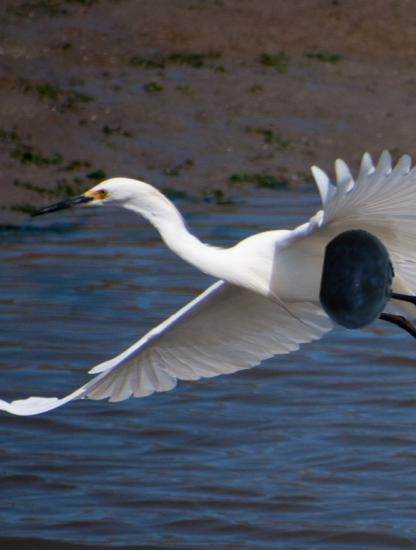Blueberry: (307, 229, 409, 331)
